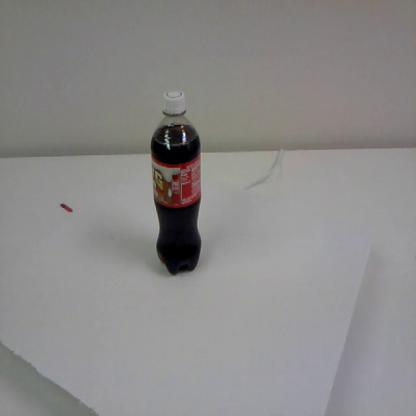bottle: (150, 85, 204, 276)
